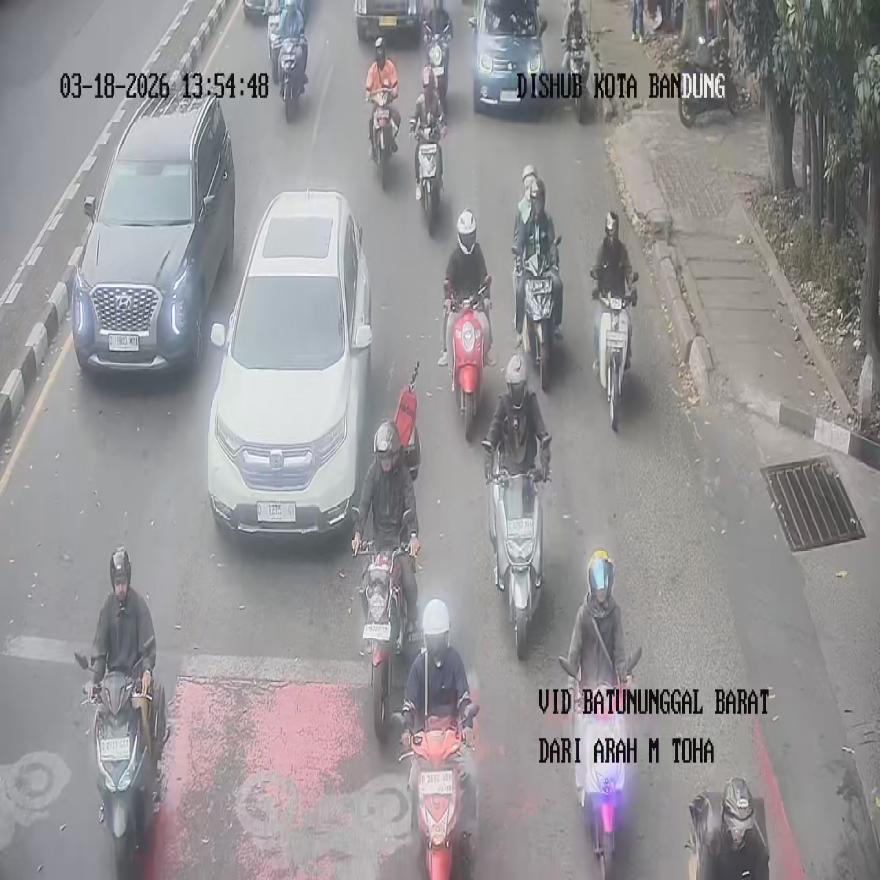Mobil: (207, 190, 373, 536), (72, 87, 235, 374), (468, 0, 547, 112)
Motor: (76, 652, 165, 877), (559, 649, 641, 879), (399, 700, 478, 880), (358, 539, 415, 738), (488, 465, 544, 658), (685, 781, 768, 879), (590, 268, 638, 430), (446, 277, 490, 439), (515, 236, 561, 390), (678, 37, 739, 127), (411, 118, 443, 233), (393, 360, 421, 481), (368, 88, 400, 189), (560, 36, 592, 124), (278, 33, 306, 122), (423, 23, 449, 116), (266, 6, 282, 89)
